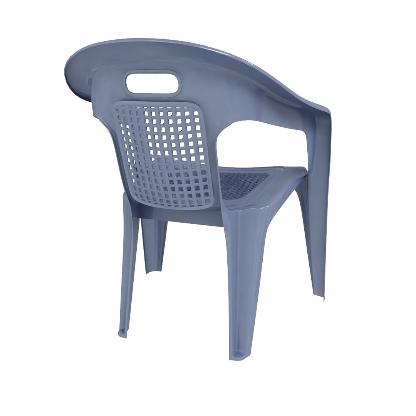chair: (61, 31, 333, 364)
